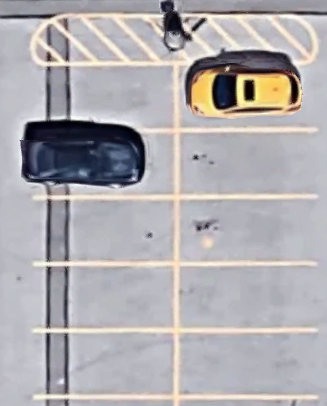Occupied: (32, 131, 177, 197), (176, 64, 316, 131)
Vacant: (32, 63, 176, 131), (32, 197, 176, 264), (33, 330, 177, 397), (176, 330, 316, 398), (176, 130, 317, 197), (175, 264, 316, 331), (32, 265, 176, 330), (177, 198, 316, 265)
